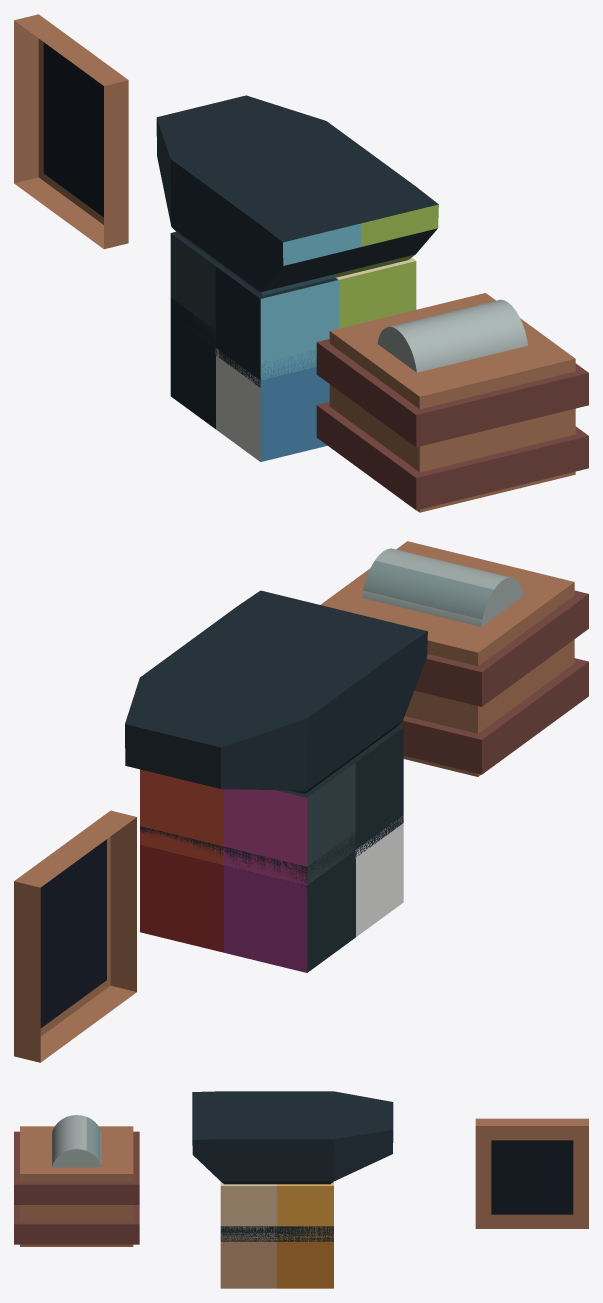
The model's file is AYMarcoV1.fbx.
The picture shows the model from 3 angles, top to bottom: view 1: azimuth 30°, elevation 25°; view 2: azimuth 150°, elevation 25°; view 3: azimuth 270°, elevation 25°; orthographic projection. The views are drawn at different scales.
Parts seen in each view (by area): view 1: Yunque, Cube.008, Cube.012, Cube.010, Cube.011, Plane, Cylinder; view 2: Yunque, Cube.012, Cube.008, Plane, Cube.011, Cylinder, Cube.010; view 3: Yunque, Cube.012, Cube.008, Plane, Cube.010, Cube.011, Cylinder.
Boxes of the visible parts, left/top/right/bottom form: Yunque: left=156, top=95, right=438, bottom=461; Cube.008: left=329, top=293, right=575, bottom=512; Cube.012: left=14, top=14, right=128, bottom=249; Cube.010: left=316, top=339, right=588, bottom=447; Cube.011: left=316, top=402, right=588, bottom=510; Plane: left=43, top=42, right=103, bottom=217; Cylinder: left=377, top=299, right=527, bottom=372; Yunque: left=125, top=590, right=427, bottom=972; Cube.012: left=14, top=810, right=136, bottom=1062; Cube.008: left=320, top=541, right=574, bottom=776; Plane: left=40, top=839, right=106, bottom=1028; Cube.011: left=398, top=658, right=588, bottom=774; Cylinder: left=362, top=548, right=523, bottom=626; Cube.010: left=414, top=590, right=588, bottom=706; Yunque: left=192, top=1091, right=393, bottom=1288; Cube.012: left=475, top=1118, right=588, bottom=1228; Cube.008: left=20, top=1126, right=133, bottom=1246; Plane: left=491, top=1140, right=573, bottom=1214; Cube.010: left=14, top=1131, right=139, bottom=1204; Cube.011: left=14, top=1205, right=139, bottom=1244; Cylinder: left=52, top=1115, right=101, bottom=1167.
Size of the model in its own units: 222 by 1015 by 291.
Materials: 2 (2 with a texture image).
